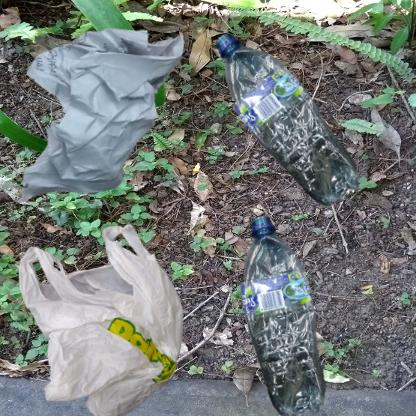bolsa: (10, 213, 216, 416)
botella: (213, 10, 382, 249), (213, 213, 374, 416)
papel: (10, 10, 191, 226)
